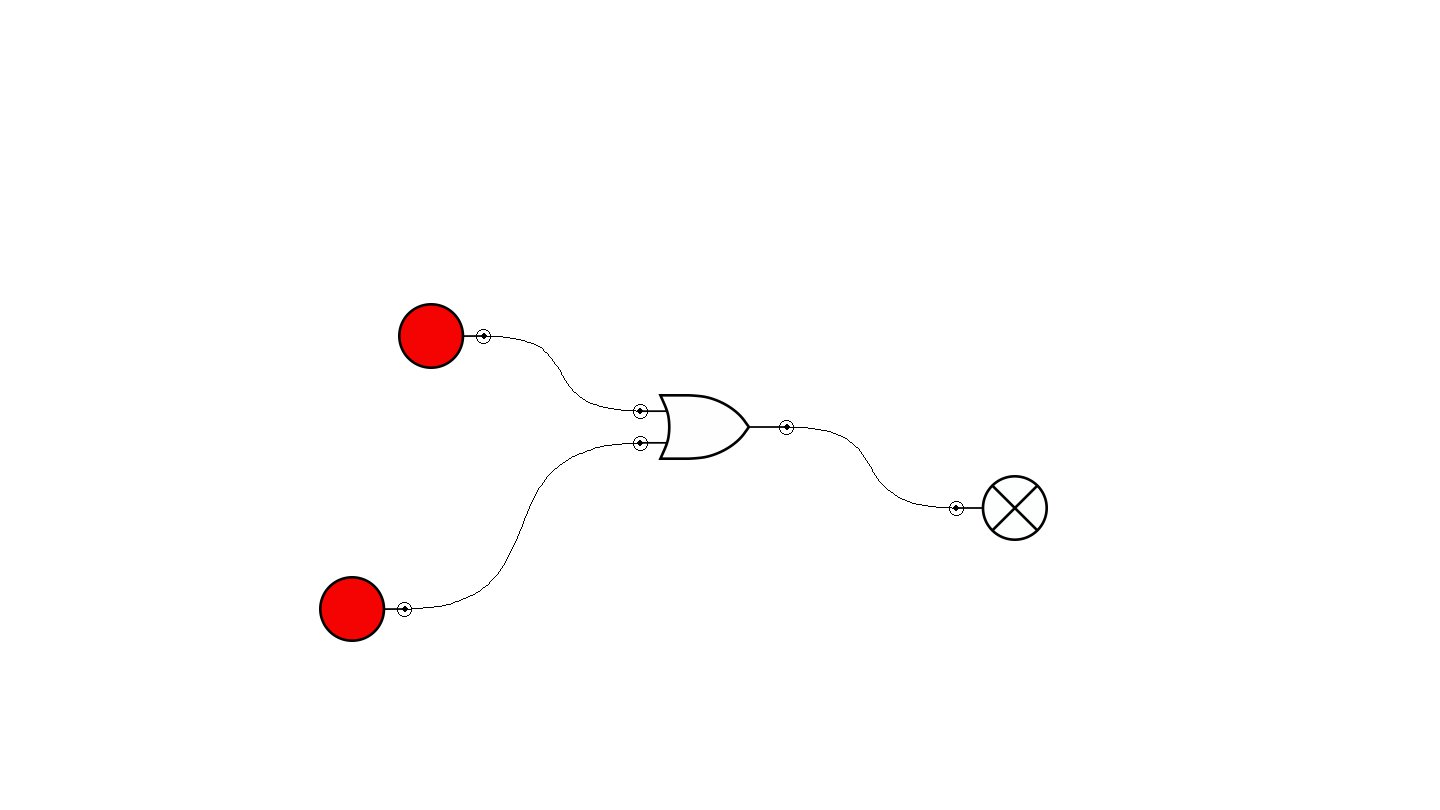bulb: (949, 475, 1048, 541)
or: (633, 394, 794, 460)
switch_False: (398, 303, 491, 369), (319, 576, 412, 642)
